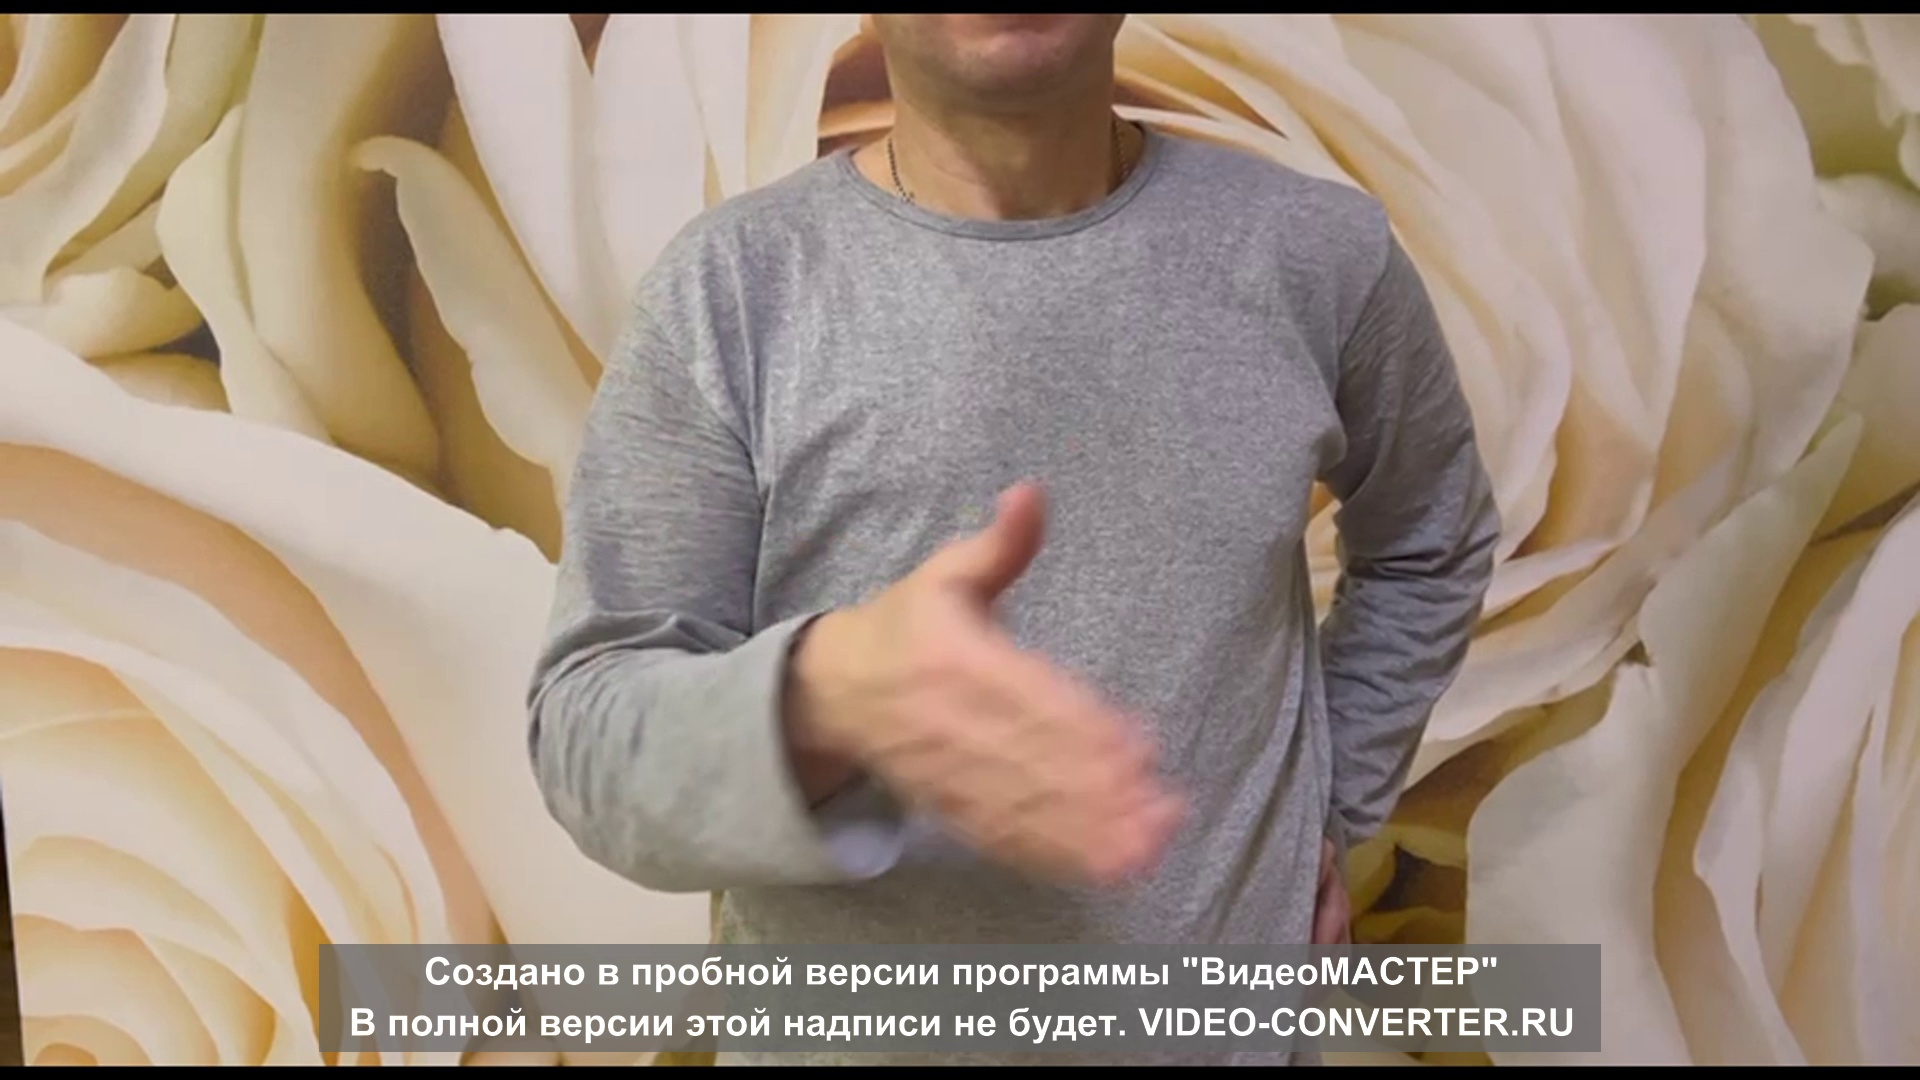Кисть: (839, 480, 1180, 887)
